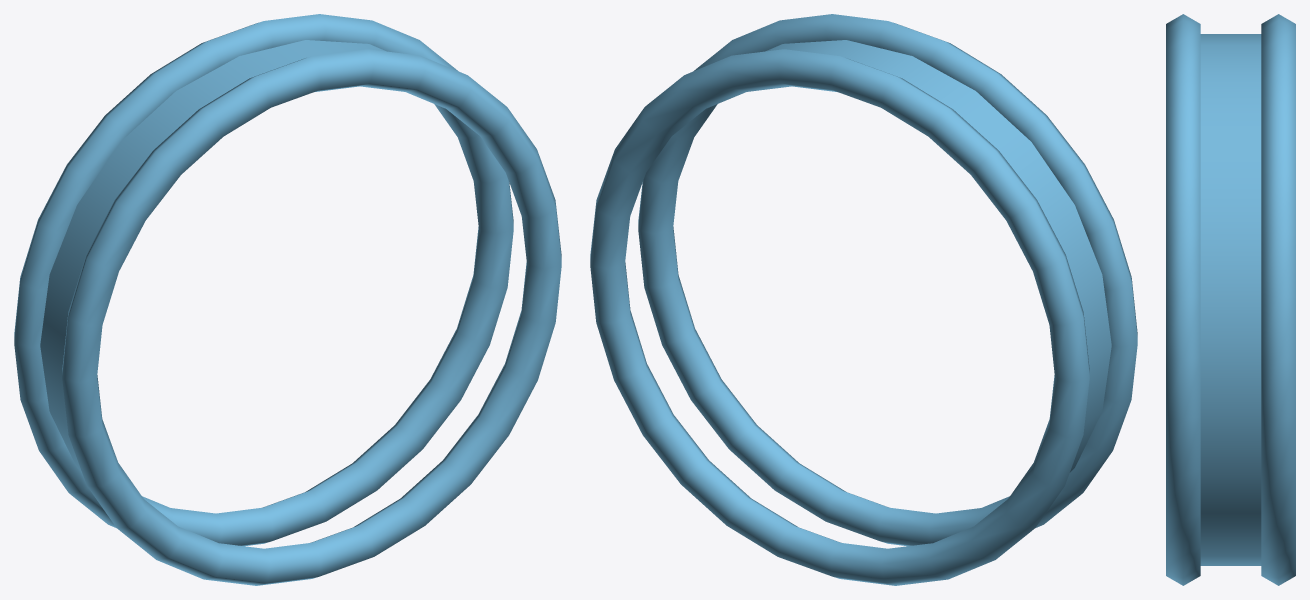
Rendered from tube_connector.glb.
3 renders of one model, left to right at view 1: azimuth 30°, elevation 25°; view 2: azimuth 150°, elevation 25°; view 3: azimuth 270°, elevation 25°, orthographic.
Visible parts, largest first — view 1: connector; view 2: connector; view 3: connector.
Part boxes in pixels (x1=…): connector: x1=14, y1=14, x2=561, y2=585; connector: x1=590, y1=14, x2=1137, y2=585; connector: x1=1166, y1=14, x2=1295, y2=585.
Size of the model in its own units: 0.72 by 0.72 by 0.1633.
